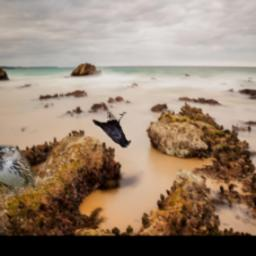Crow: (92, 110, 131, 147)
Sparrow: (0, 146, 35, 197)
